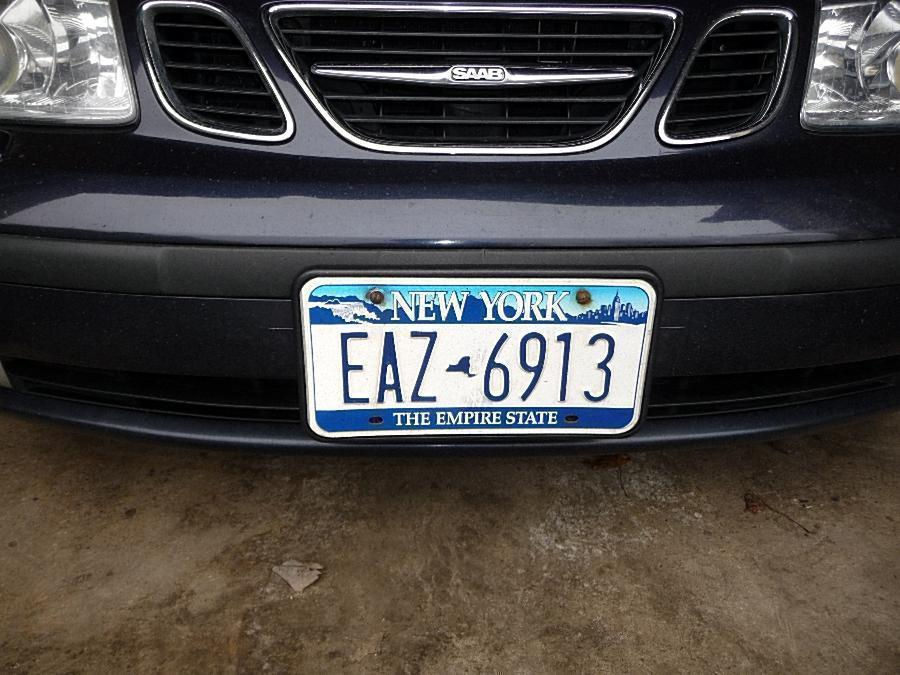placa de veiculo: (277, 247, 694, 483)
